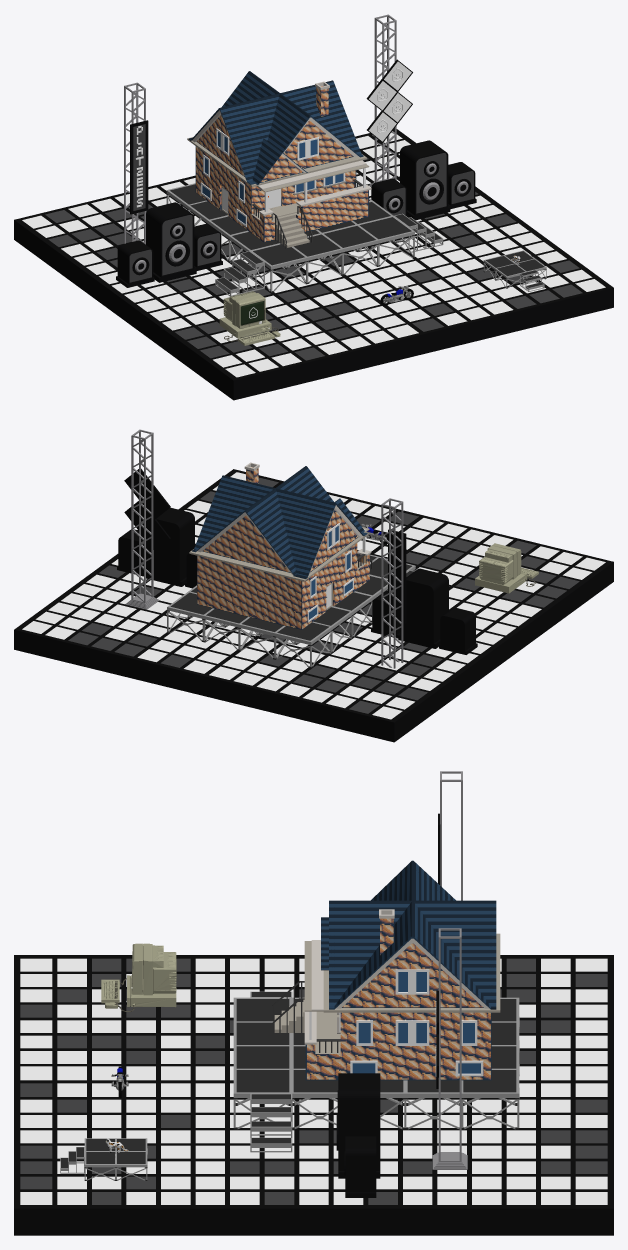
The picture shows the model from 3 angles, top to bottom: view 1: azimuth 30°, elevation 25°; view 2: azimuth 150°, elevation 25°; view 3: azimuth 270°, elevation 25°; orthographic projection. The views are drawn at different scales.
Visible parts, largest first — view 1: Cube.008, Cube.430, OBJRANDOM_RETRO_PC; view 2: Cube.008, Cube.430, OBJRANDOM_RETRO_PC; view 3: Cube.008, Cube.430, OBJRANDOM_RETRO_PC.
Part boxes in pixels (<box>): Cube.008: <box>14,14,613,400</box>; Cube.430: <box>187,71,371,248</box>; OBJRANDOM_RETRO_PC: <box>219,291,280,345</box>; Cube.008: <box>14,429,613,742</box>; Cube.430: <box>189,462,372,629</box>; OBJRANDOM_RETRO_PC: <box>475,543,538,593</box>; Cube.008: <box>14,771,613,1235</box>; Cube.430: <box>272,860,500,1080</box>; OBJRANDOM_RETRO_PC: <box>101,943,176,1011</box>.
Size of the model in its own units: 4000 by 1975 by 4000.
37 materials, 2 textured.
